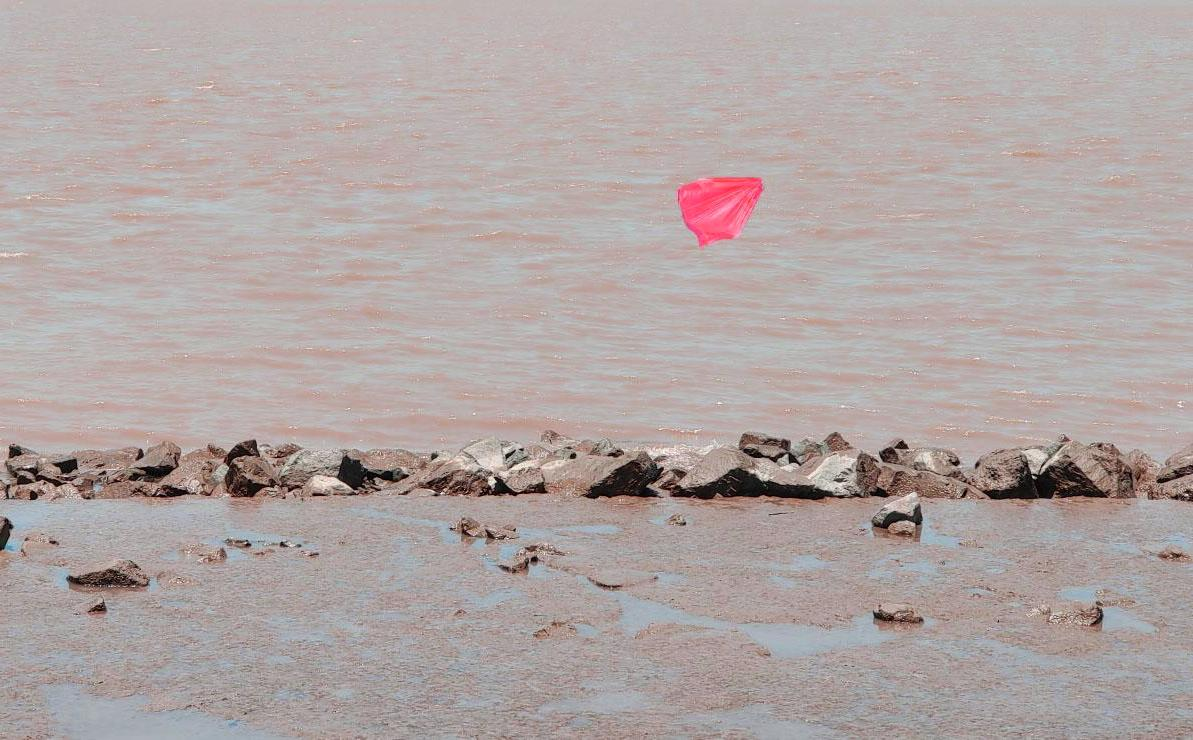Trash: (674, 171, 766, 248)
